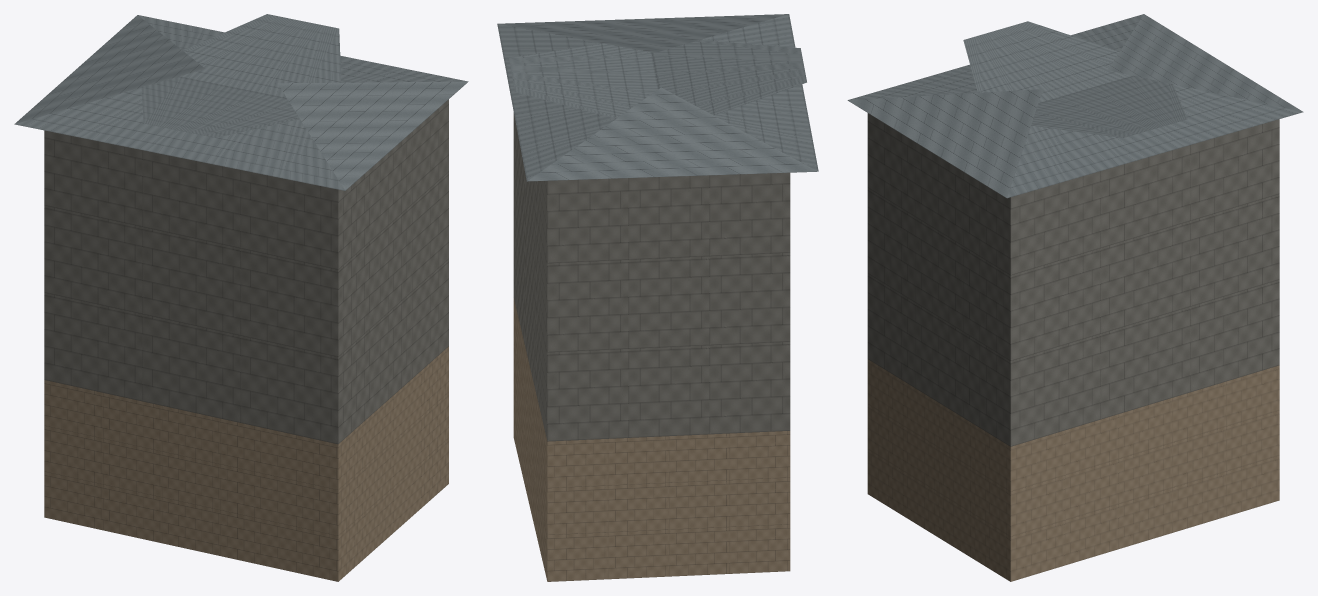
File: bld_c16_25_400.gltf
3 renders of one model, left to right at view 1: azimuth 30°, elevation 25°; view 2: azimuth 150°, elevation 25°; view 3: azimuth 270°, elevation 25°, orthographic. The views are drawn at different scales.
Visible parts, largest first — view 1: bld_c16_25_400; view 2: bld_c16_25_400; view 3: bld_c16_25_400.
Boxes of the visible parts, <box> form: bld_c16_25_400: <box>14,14,468,581</box>; bld_c16_25_400: <box>497,14,818,581</box>; bld_c16_25_400: <box>847,14,1303,581</box>.
Size of the model in its own units: 14.93 by 15.8 by 15.62.
Materials: 3 (3 with a texture image).
